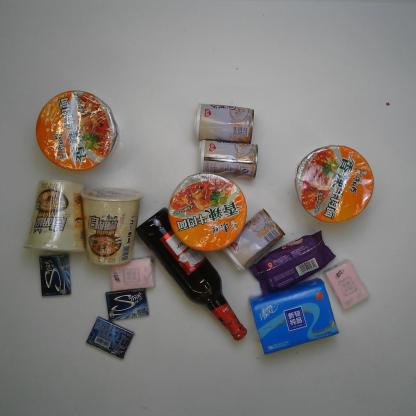Alcohol: (136, 206, 247, 341)
Canned Food: (222, 207, 286, 272), (193, 103, 255, 144), (198, 139, 258, 180)
Dessert: (248, 229, 337, 295)
Gum: (85, 315, 136, 360), (105, 286, 150, 321), (38, 252, 72, 297)
Instant Noodles: (35, 88, 120, 172), (168, 171, 248, 252), (293, 144, 375, 223), (79, 186, 144, 266), (22, 178, 88, 254)
Tissue: (248, 276, 340, 355), (323, 257, 371, 311), (109, 255, 157, 292)
